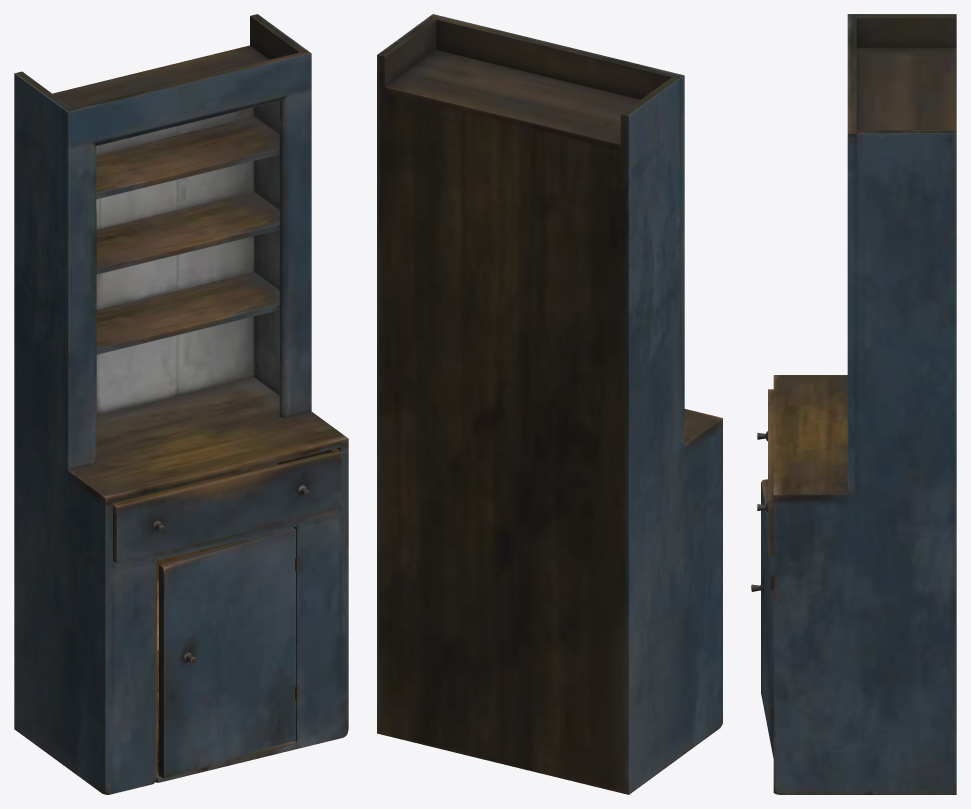
The model's file is painted_wooden_cabinet_02.glb.
3 renders of one model, left to right at view 1: azimuth 30°, elevation 25°; view 2: azimuth 150°, elevation 25°; view 3: azimuth 270°, elevation 25°, orthographic. The views are drawn at different scales.
Parts seen in each view (by area): view 1: painted_wooden_cabinet_02; view 2: painted_wooden_cabinet_02; view 3: painted_wooden_cabinet_02.
Part boxes in pixels (left/top/right/bottom): painted_wooden_cabinet_02: left=14, top=14, right=348, bottom=794; painted_wooden_cabinet_02: left=377, top=14, right=722, bottom=794; painted_wooden_cabinet_02: left=751, top=14, right=956, bottom=794.
Size of the model in its own units: 0.9969 by 2.57 by 0.7223.
Materials: 1 (1 with a texture image).
